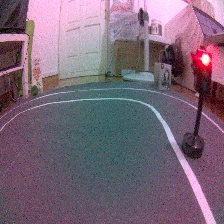red: (180, 44, 214, 159)
